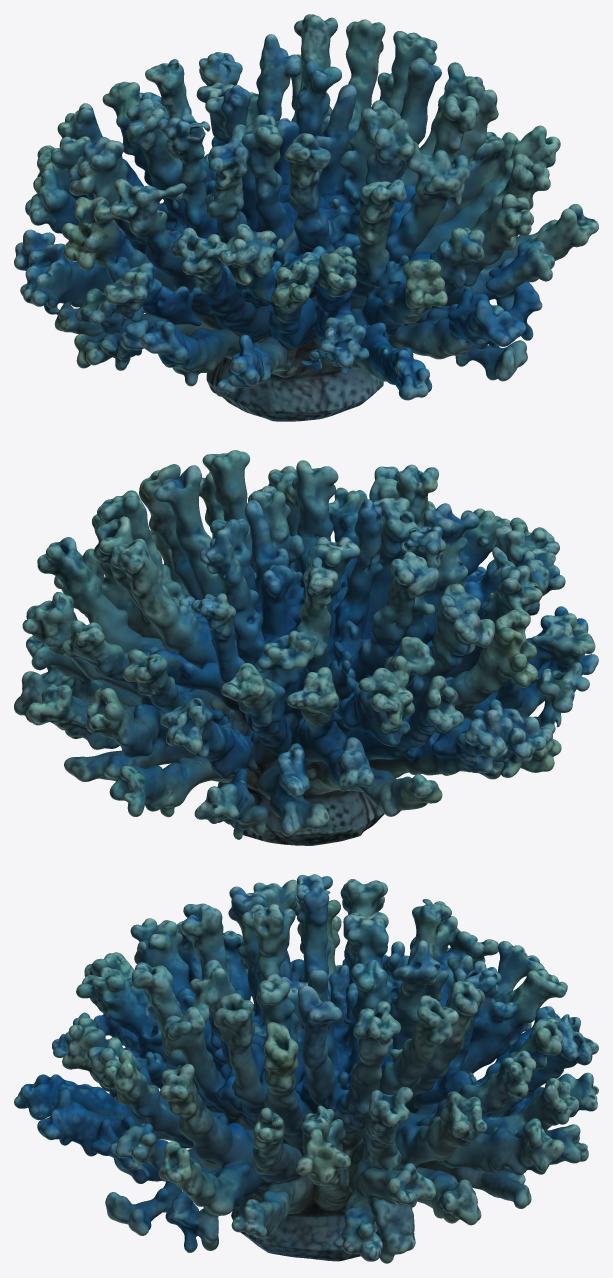
File: coral_branch_b.glb
The picture shows the model from 3 angles, top to bottom: view 1: azimuth 30°, elevation 25°; view 2: azimuth 150°, elevation 25°; view 3: azimuth 270°, elevation 25°; orthographic projection. The views are drawn at different scales.
Visible parts, largest first — view 1: tripo_node_88eecc38-f34a-42e4-8279-4554074913f1; view 2: tripo_node_88eecc38-f34a-42e4-8279-4554074913f1; view 3: tripo_node_88eecc38-f34a-42e4-8279-4554074913f1.
Part boxes in pixels (x1,y1,x2,y2): tripo_node_88eecc38-f34a-42e4-8279-4554074913f1: [14, 14, 598, 421]; tripo_node_88eecc38-f34a-42e4-8279-4554074913f1: [14, 450, 598, 845]; tripo_node_88eecc38-f34a-42e4-8279-4554074913f1: [14, 874, 598, 1263].
Bounding box in the file's own units: 0.9735 × 0.6115 × 1.
1 material, 1 textured.
